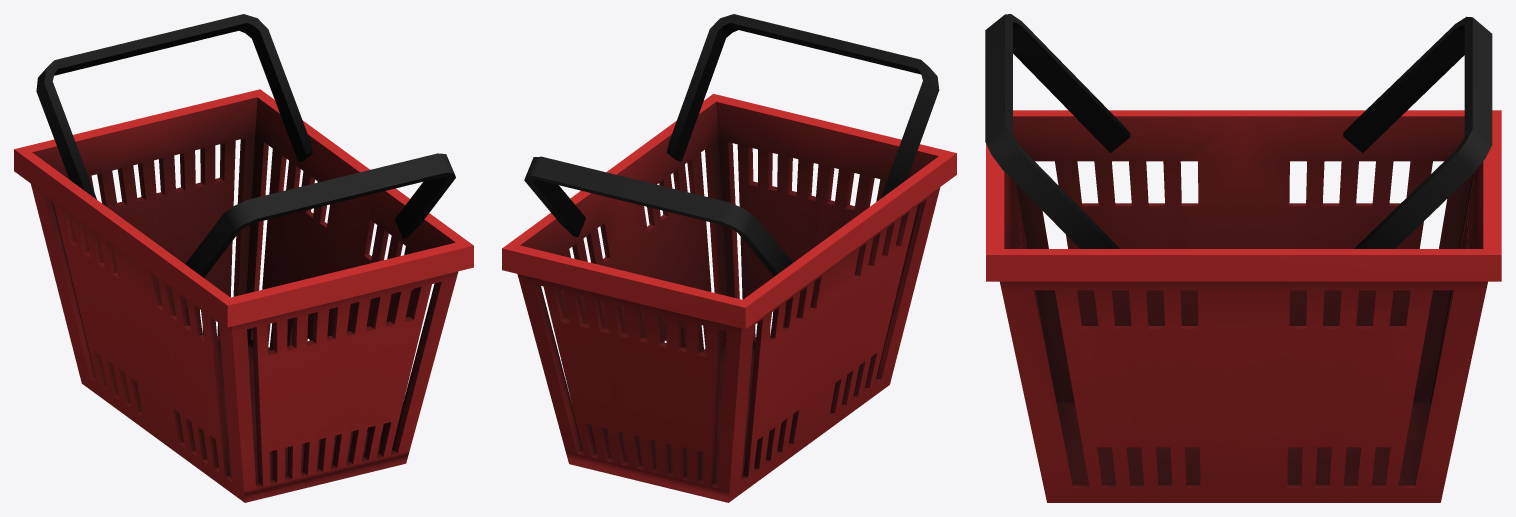
The picture shows the model from 3 angles, left to right: view 1: azimuth 30°, elevation 25°; view 2: azimuth 150°, elevation 25°; view 3: azimuth 270°, elevation 25°; orthographic projection. The views are drawn at different scales.
Visible parts, largest first — view 1: alt1.188; view 2: alt1.188; view 3: alt1.188.
Boxes of the visible parts, <box> form: alt1.188: <box>14,14,473,502</box>; alt1.188: <box>502,14,956,502</box>; alt1.188: <box>985,14,1501,502</box>.
Size of the model in its own units: 0.332 by 0.4117 by 0.5.
